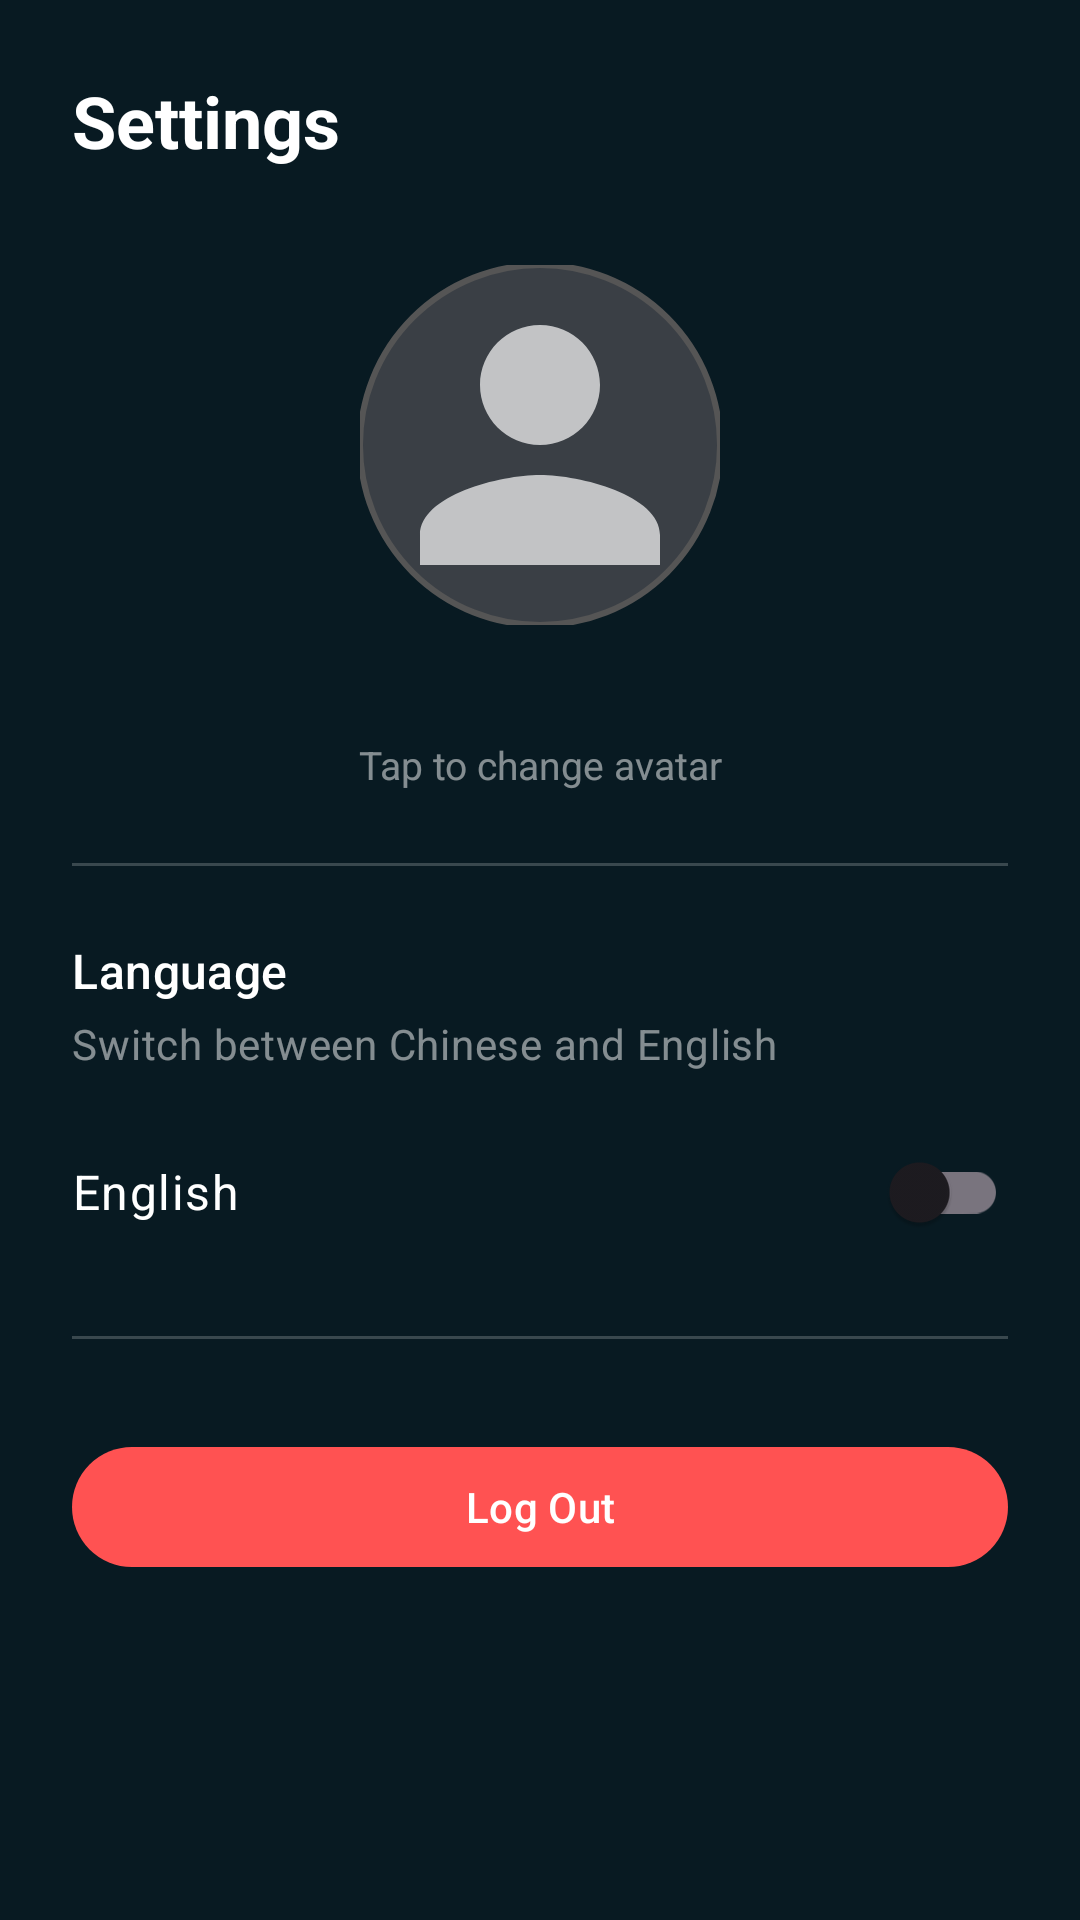

Screen size 1080px x 1920px. Icon name, then its center in pixels as (x=x, y=y):
person: (x=540, y=445)
